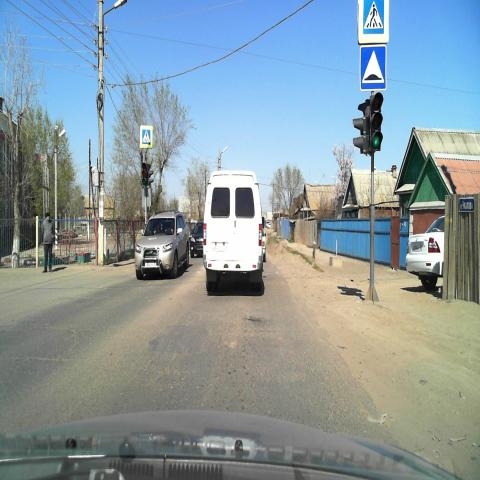5_20: (358, 45, 386, 91)
